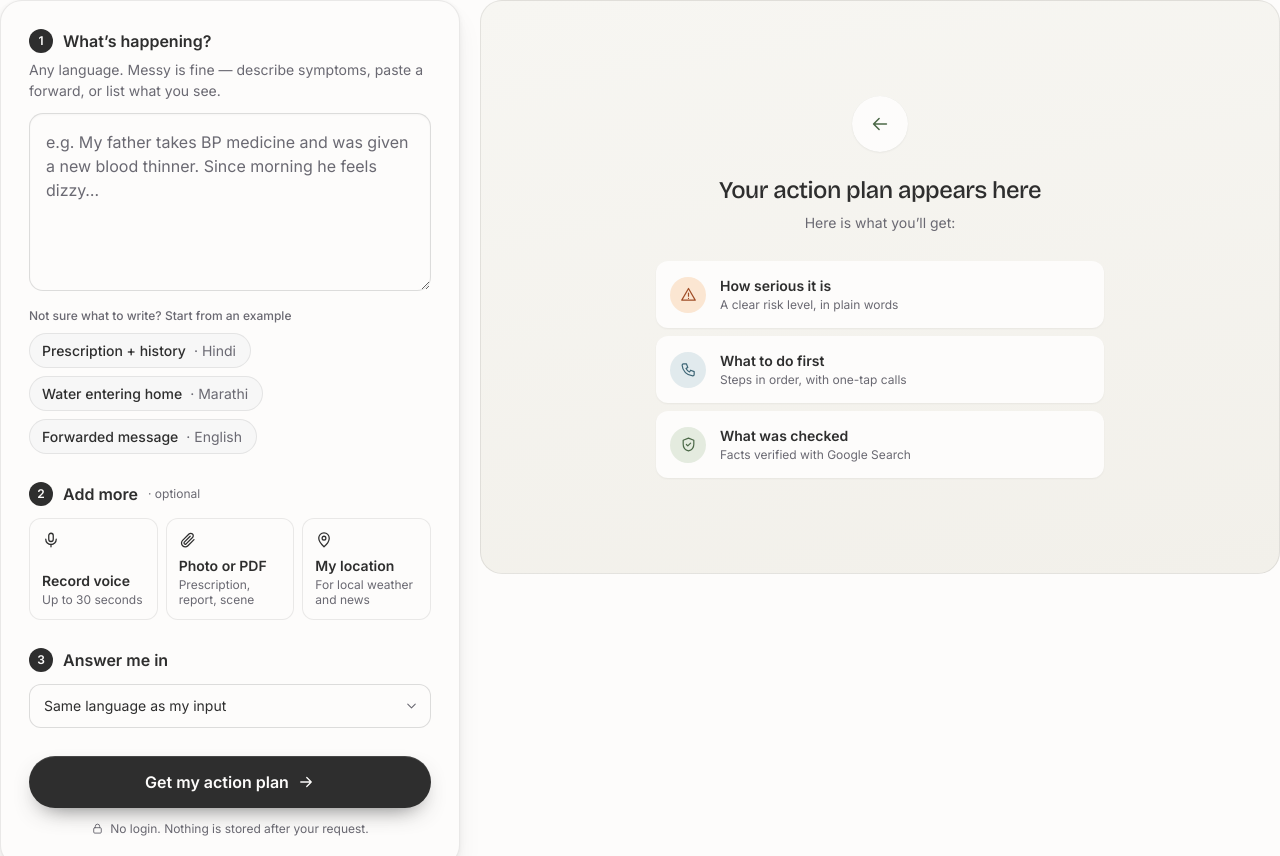
Scenario: Workspace › starts over with an empty form and focus back in the text box
Step 1. Type "help" into the text box labelled "What’s happening?" → (230, 202), box [29, 113, 431, 291]
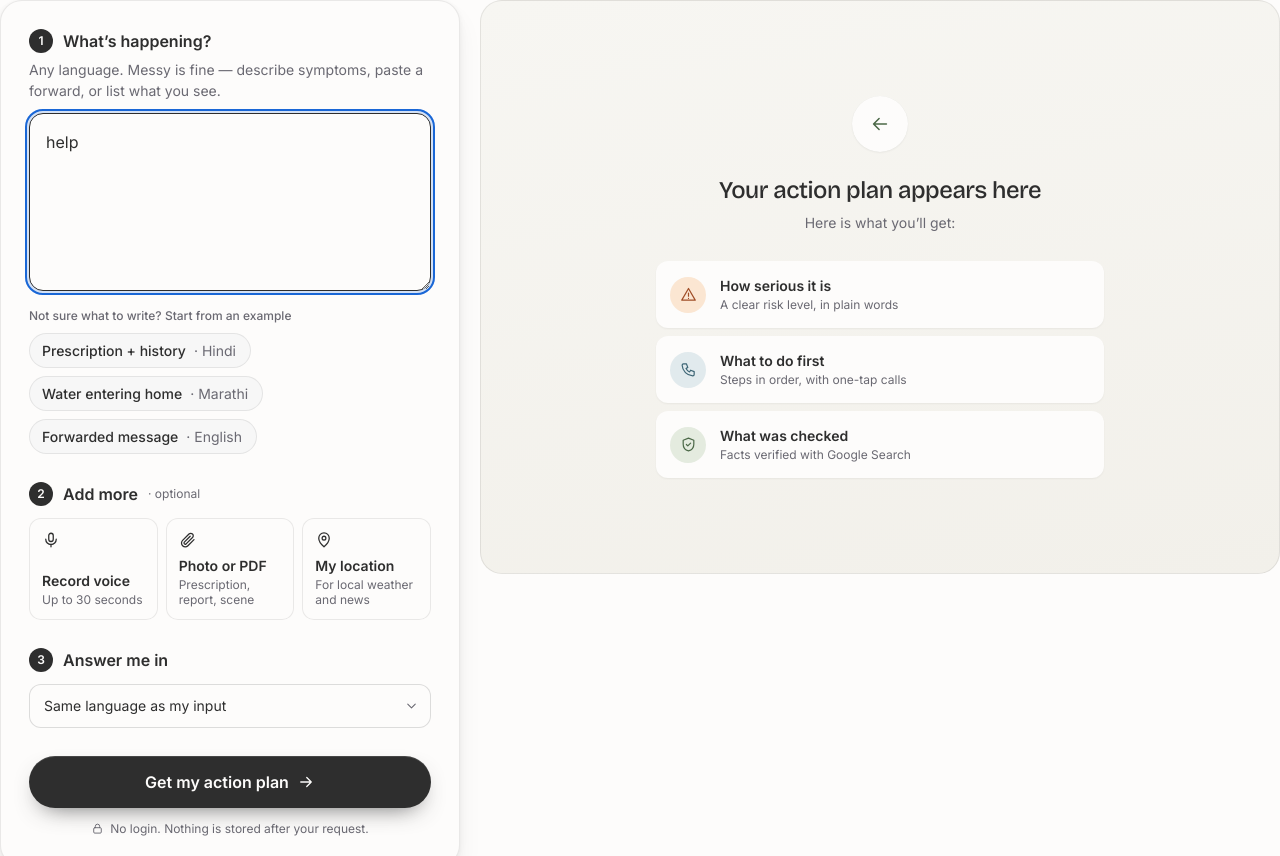
Step 2. Click the button "Get my action plan" → click(230, 782), box [29, 756, 431, 808]
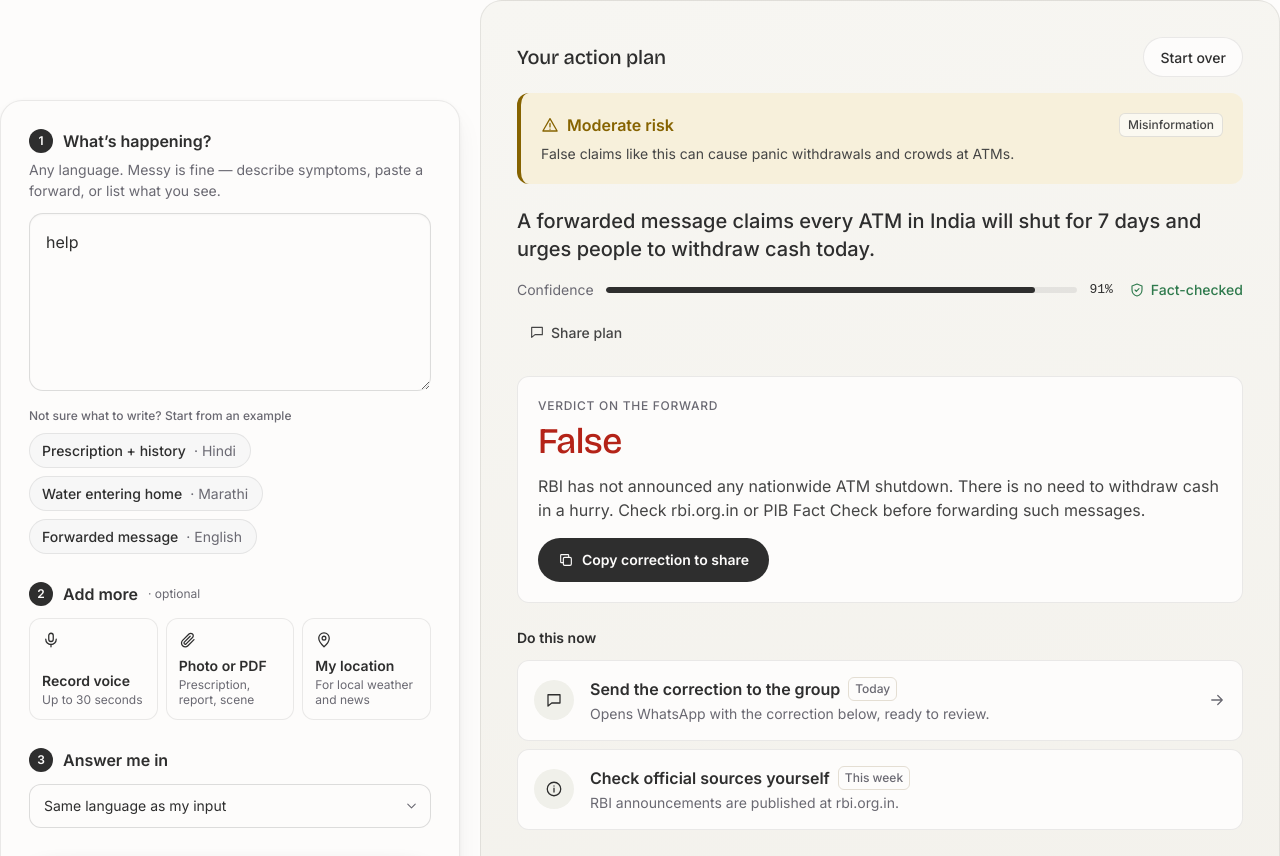
Step 3. Click the button "Start over" → click(1193, 57), box [1143, 37, 1243, 77]
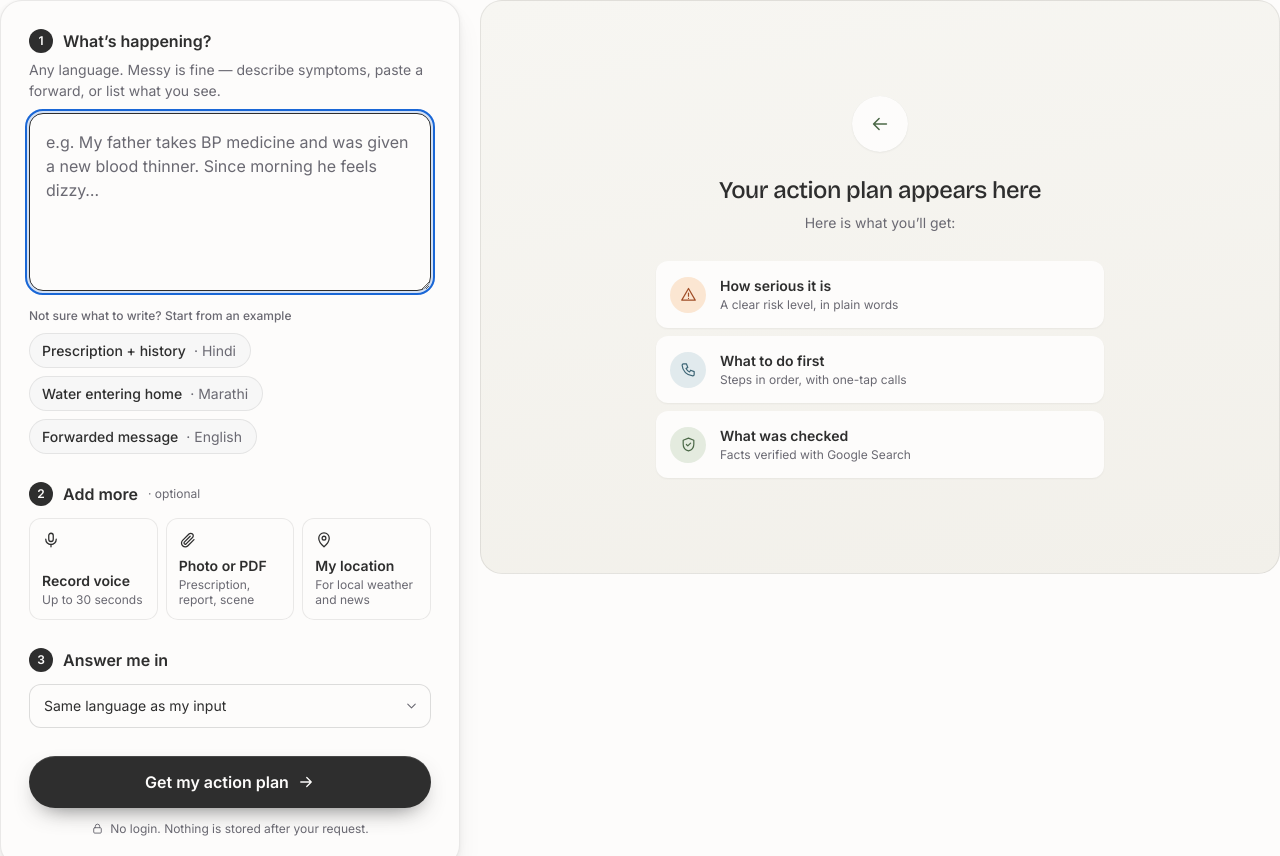
Check: the text box labelled "What’s happening?" is empty, box [29, 113, 431, 291]
Check: the text "Your action plan appears here" is shown, box [719, 172, 1041, 208]
